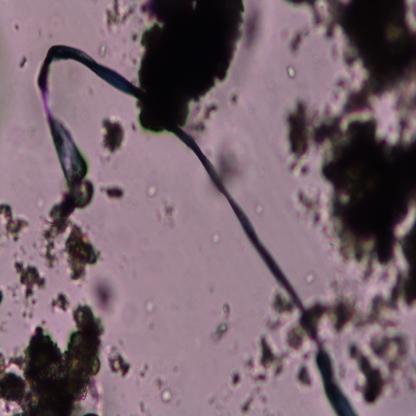Background material: (285, 93, 416, 304), (137, 0, 246, 130), (289, 0, 416, 106), (0, 303, 106, 414), (228, 288, 322, 412), (331, 292, 416, 405), (41, 219, 102, 282), (218, 126, 257, 179), (12, 256, 44, 320), (90, 272, 126, 316), (146, 182, 177, 228), (99, 114, 129, 161), (208, 299, 236, 346), (101, 0, 139, 33), (0, 199, 30, 240), (105, 342, 133, 382), (95, 179, 127, 202), (287, 26, 310, 57), (154, 374, 174, 406), (48, 293, 71, 316), (226, 367, 245, 391), (302, 268, 318, 288), (228, 89, 242, 109), (145, 296, 157, 315), (210, 230, 223, 247), (16, 55, 29, 70), (98, 41, 108, 60), (138, 364, 151, 378), (284, 66, 298, 79), (253, 204, 265, 218), (0, 287, 6, 308)
Cotton: (34, 38, 356, 416)
